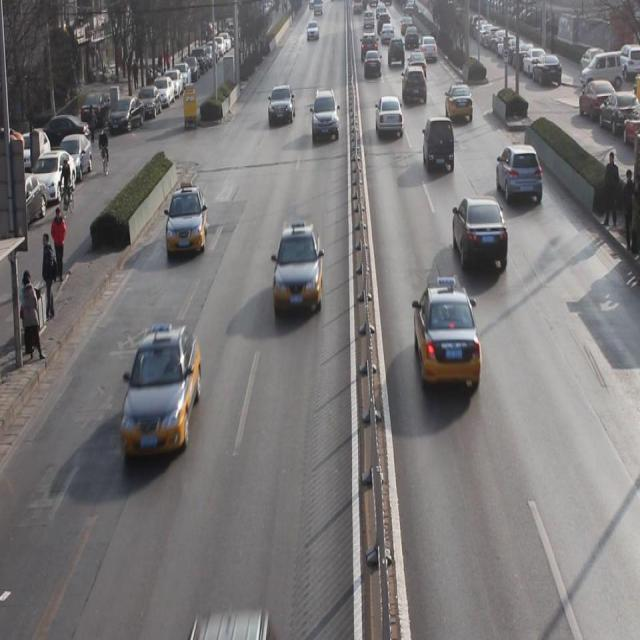car: (123, 335, 202, 459), (413, 288, 482, 396), (452, 194, 509, 275), (274, 228, 325, 318), (498, 144, 546, 209), (170, 186, 207, 258), (310, 90, 341, 146), (376, 95, 405, 141), (267, 84, 296, 126), (446, 82, 474, 123), (402, 66, 427, 106), (408, 45, 426, 81), (420, 30, 440, 61), (387, 35, 406, 67), (364, 46, 382, 77)
truck: (423, 116, 456, 174)
